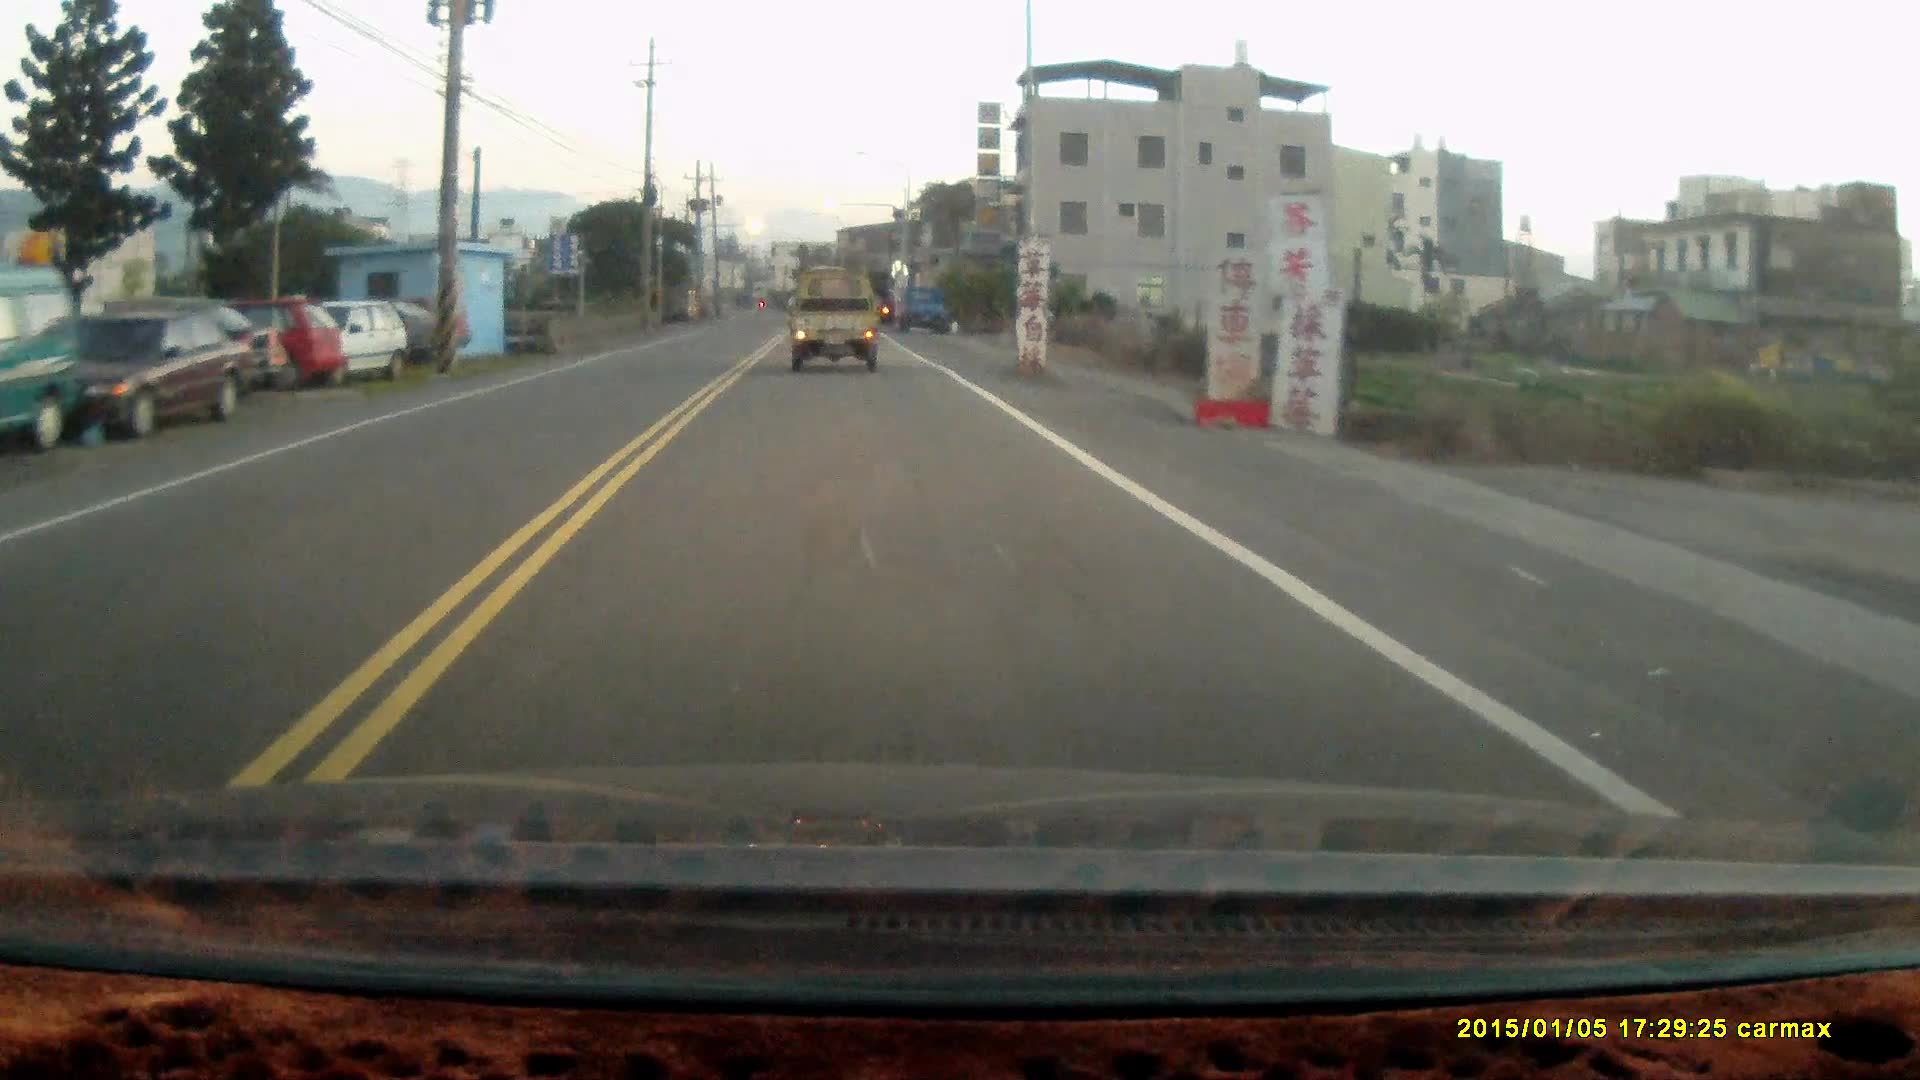vehicle: (22, 301, 262, 443), (177, 299, 348, 386), (1, 268, 86, 440), (281, 302, 410, 381), (791, 269, 884, 376), (899, 286, 955, 336)
